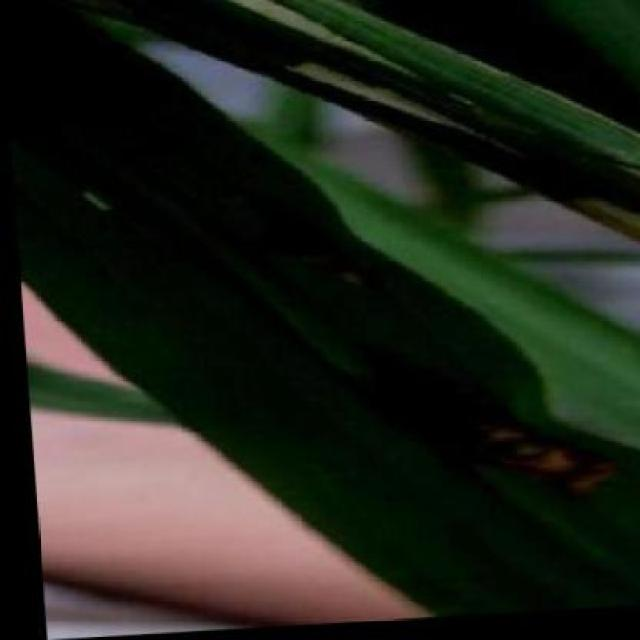Bacterial_Leaf_Blight: (322, 325, 622, 526), (216, 181, 375, 317), (69, 1, 316, 33)
